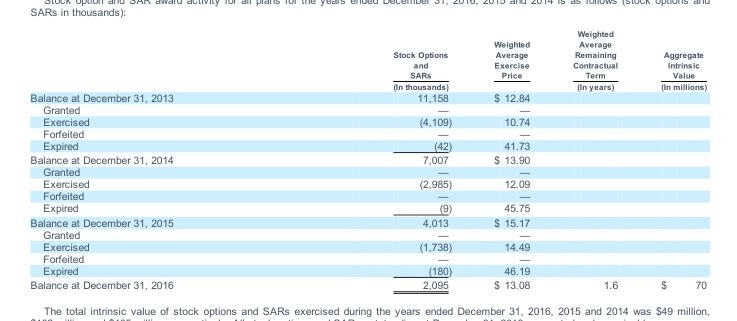table: (29, 28, 706, 290)
table column: (29, 28, 282, 290), (282, 28, 472, 290), (550, 28, 638, 290), (472, 28, 550, 290), (638, 28, 706, 290)
table column header: (29, 28, 706, 91)
table row: (29, 28, 706, 91), (29, 263, 706, 277), (29, 139, 706, 152), (29, 152, 706, 165), (29, 201, 706, 214), (29, 214, 706, 227), (29, 277, 706, 290), (29, 91, 706, 103), (29, 103, 706, 115), (29, 115, 706, 127), (29, 127, 706, 139), (29, 165, 706, 177), (29, 177, 706, 189), (29, 189, 706, 201), (29, 227, 706, 239), (29, 239, 706, 251), (29, 251, 706, 263)
